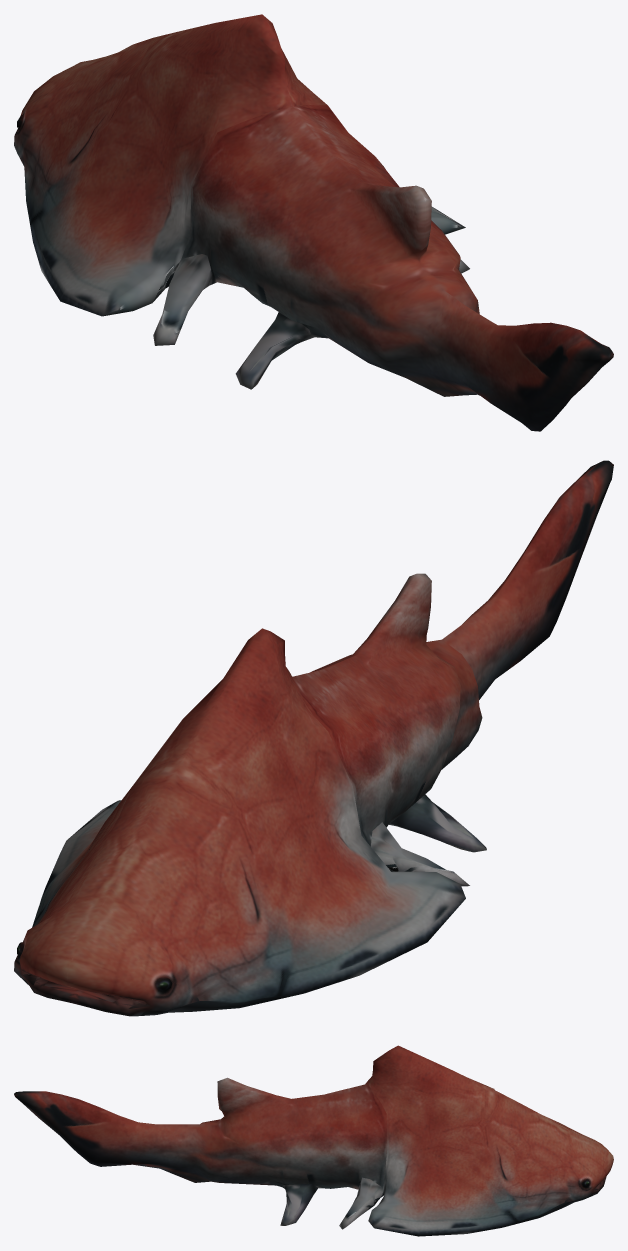
Rendered from fish_model-v1.glb.
3 views of the same model, one above another, from view 1: azimuth 30°, elevation 25°; view 2: azimuth 150°, elevation 25°; view 3: azimuth 270°, elevation 25° (orthographic). The views are drawn at different scales.
Visible parts, largest first — view 1: Groenlandaspis_0; view 2: Groenlandaspis_0; view 3: Groenlandaspis_0.
Part boxes in pixels (left/top/right/bottom): Groenlandaspis_0: left=14, top=14, right=613, bottom=431; Groenlandaspis_0: left=14, top=460, right=613, bottom=1016; Groenlandaspis_0: left=14, top=1045, right=613, bottom=1236.
Size of the model in its own units: 1.31 by 0.9287 by 3.36.
1 material, 1 textured.
